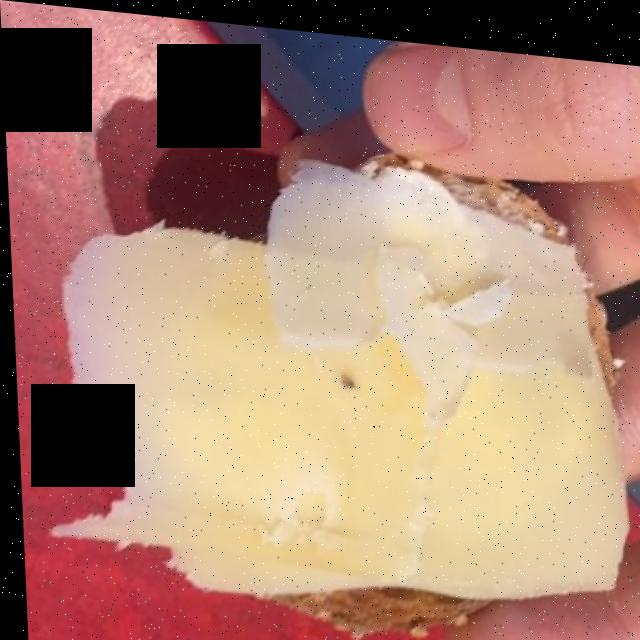hard-cheese: (47, 158, 624, 594)
